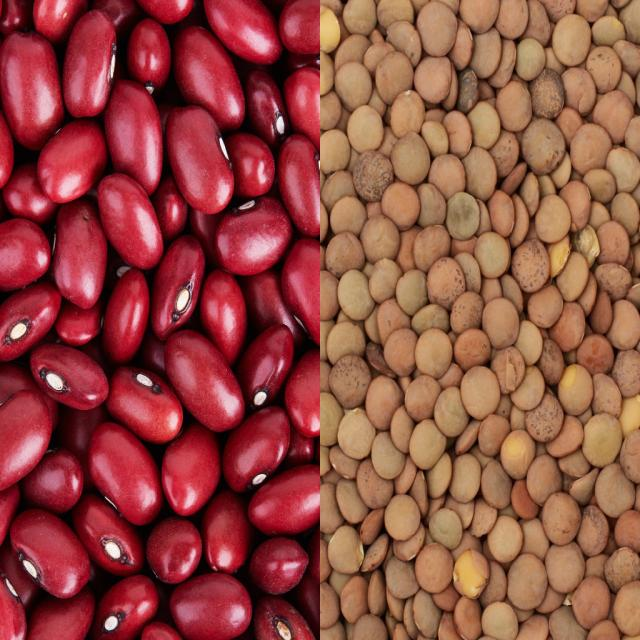frijoles: (6, 2, 312, 634)
lentejas: (325, 6, 637, 634)
